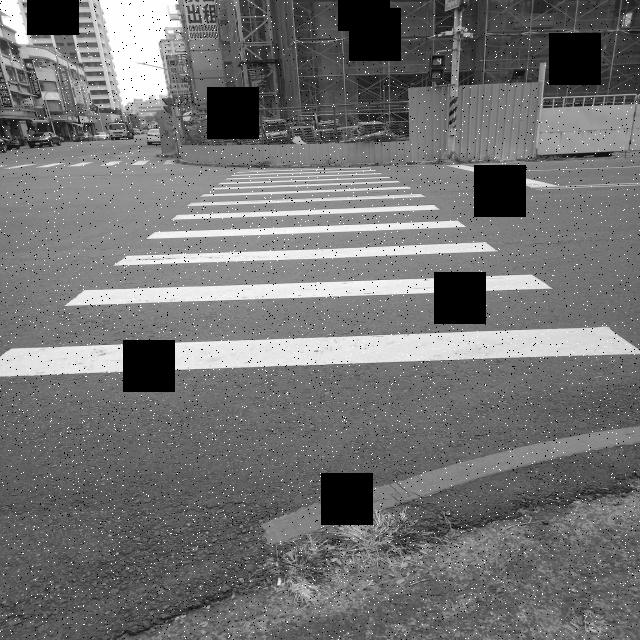zebra crossing: (3, 170, 638, 381), (1, 158, 174, 170)
